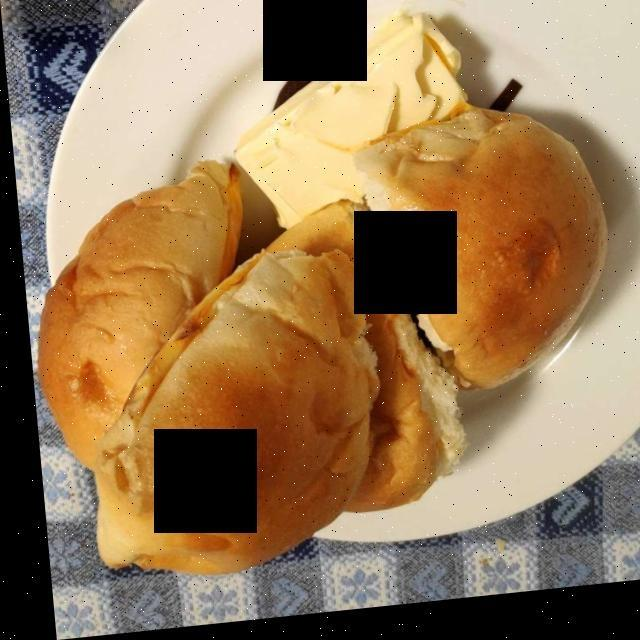bread: (39, 125, 598, 567)
butter: (231, 30, 463, 226)
